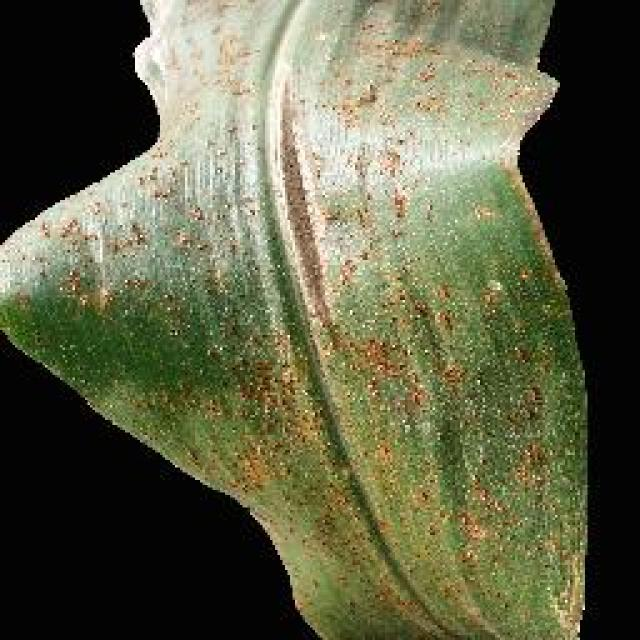Corn Common Rust: (122, 47, 609, 640)
